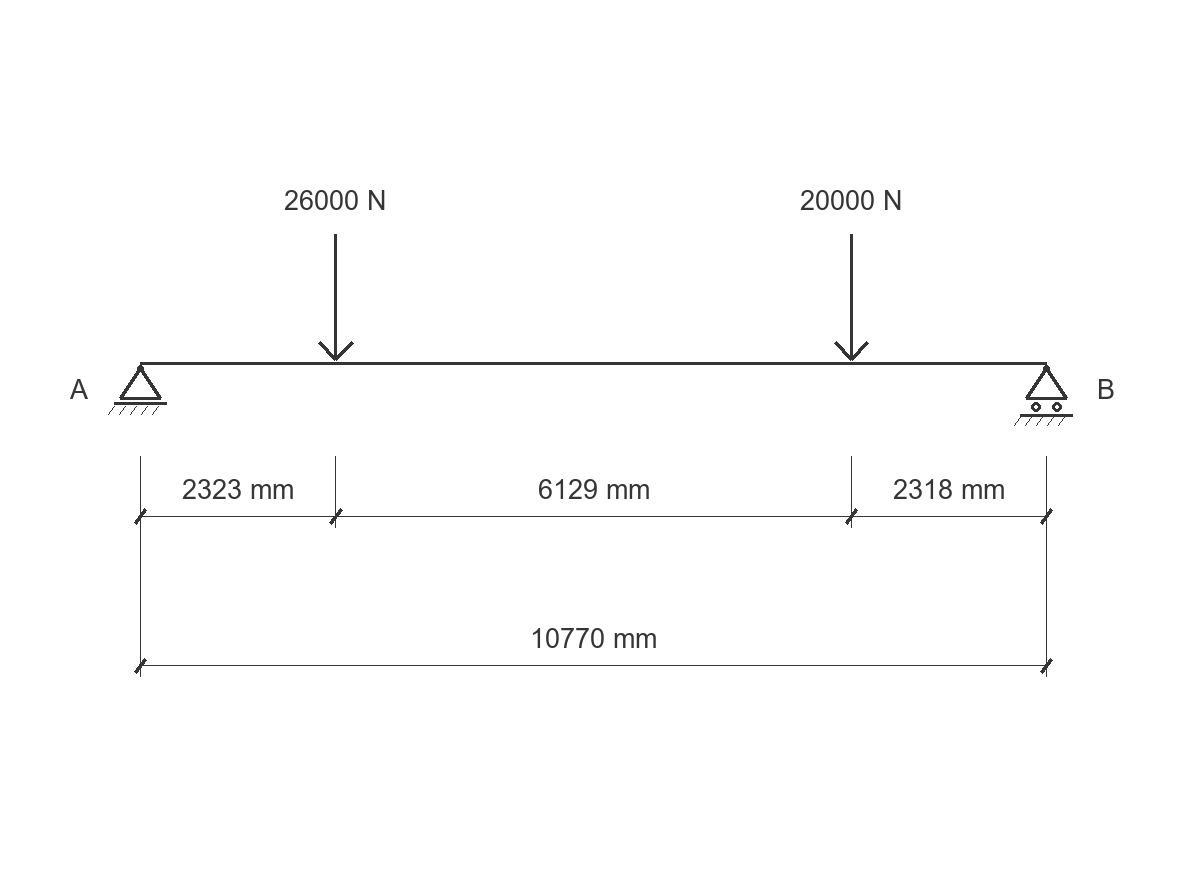pin_support: (108, 365, 167, 415)
point_load: (318, 234, 354, 361), (834, 234, 869, 361)
roller_support: (1014, 365, 1073, 426)
